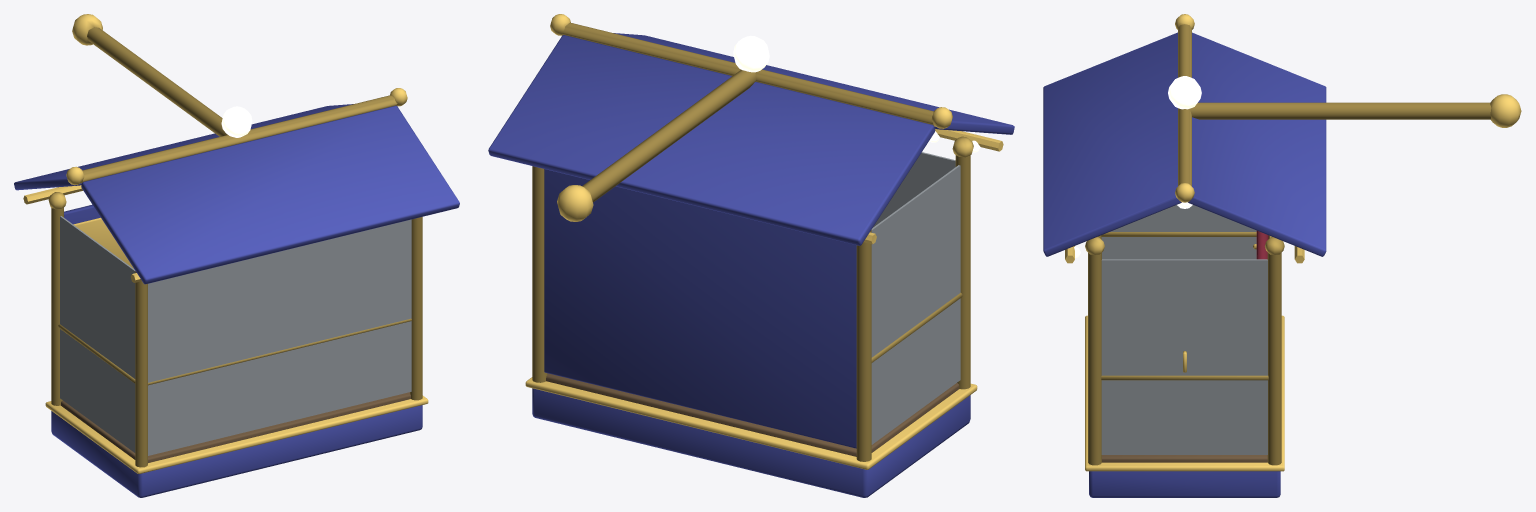
Rendered from wheel_gondola.glb.
3 renders of one model, left to right at view 1: azimuth 30°, elevation 25°; view 2: azimuth 150°, elevation 25°; view 3: azimuth 270°, elevation 25°, orthographic. The views are drawn at different scales.
Parts seen in each view (by area): view 1: wheel_gondola; view 2: wheel_gondola; view 3: wheel_gondola.
Boxes of the visible parts, x1,y1,x2,y2 form: wheel_gondola: [14, 14, 459, 497]; wheel_gondola: [488, 14, 1014, 497]; wheel_gondola: [1043, 14, 1521, 497].
Bounding box in the file's own units: 4.2 × 3.84 × 4.79.
